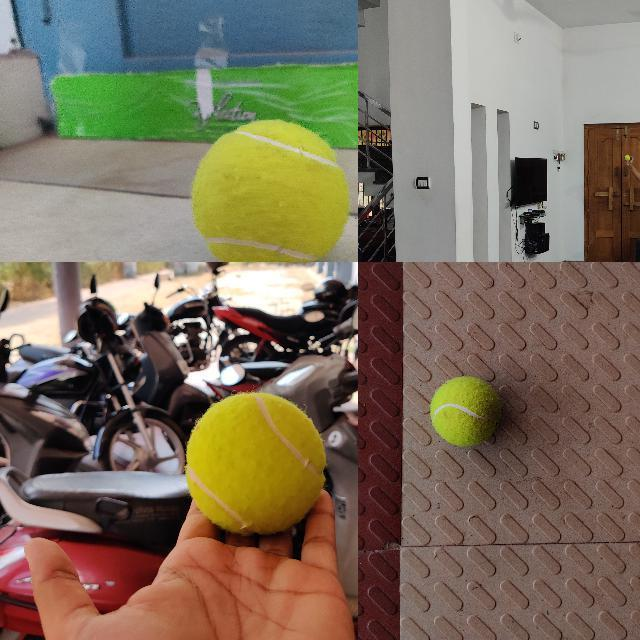tennis-ball: (190, 118, 351, 261), (184, 392, 327, 536), (430, 376, 501, 446), (624, 155, 630, 160)
